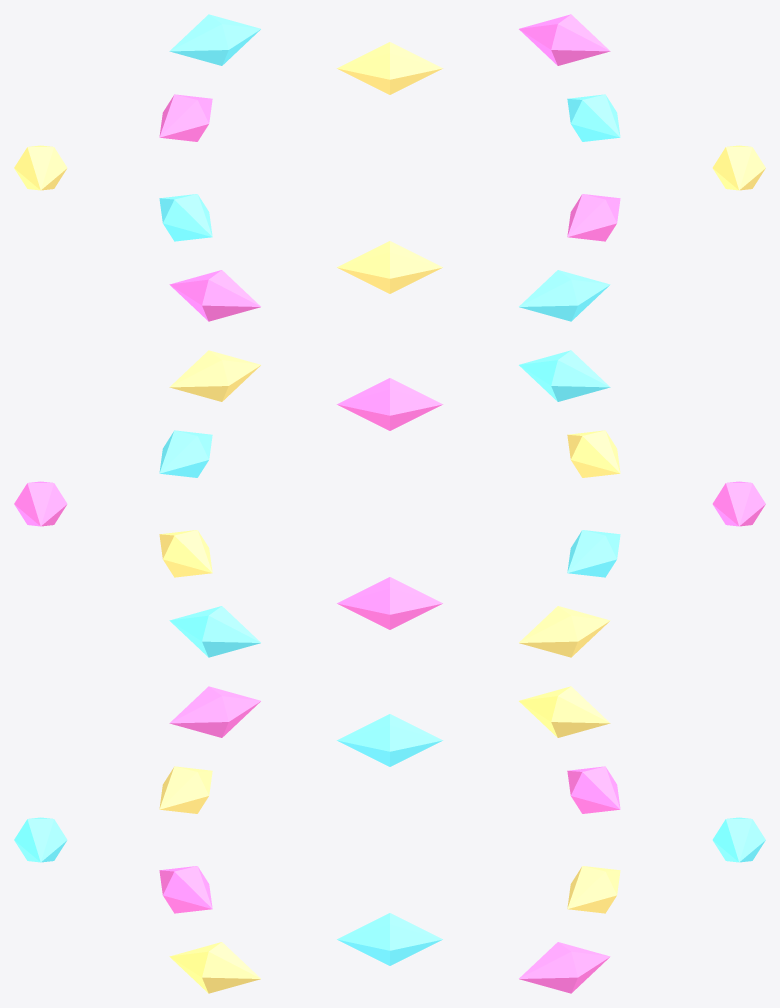
The model's file is prism-burst.glb.
3 renders of one model, top to bottom at view 1: azimuth 30°, elevation 25°; view 2: azimuth 150°, elevation 25°; view 3: azimuth 270°, elevation 25°, orthographic.
Parts seen in each view (by area): view 1: prism-burst; view 2: prism-burst; view 3: prism-burst.
Part boxes in pixels (<box>): prism-burst: <box>14,14,765,321</box>; prism-burst: <box>14,350,765,657</box>; prism-burst: <box>14,686,765,993</box>.
Size of the model in its own units: 1.62 by 0.1143 by 1.85.
